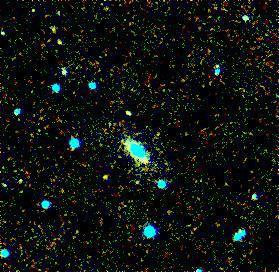star: (92, 161, 122, 191)
